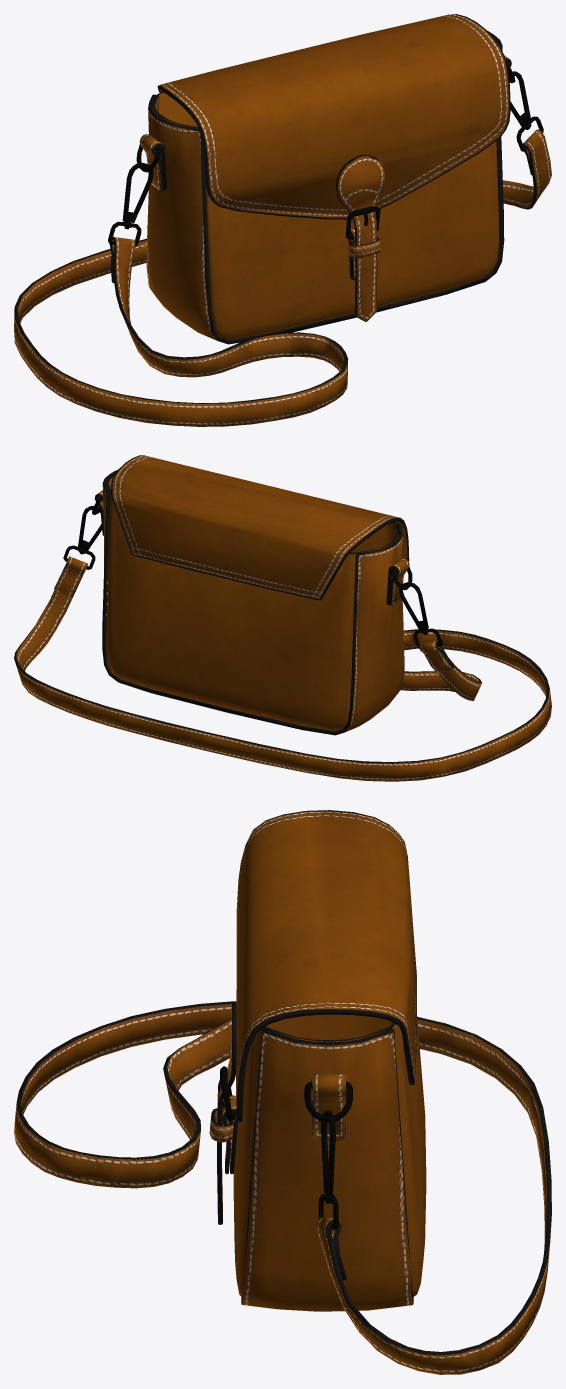
The model's file is hvbag_Woman_handbag_orange.glb.
3 views of the same model, one above another, from view 1: azimuth 30°, elevation 25°; view 2: azimuth 150°, elevation 25°; view 3: azimuth 270°, elevation 25° (orthographic). The views are drawn at different scales.
Visible parts, largest first — view 1: Woman_handbag_orange_leather_StaticMeshComponent0; view 2: Woman_handbag_orange_leather_StaticMeshComponent0; view 3: Woman_handbag_orange_leather_StaticMeshComponent0.
Boxes of the visible parts, <box> form: Woman_handbag_orange_leather_StaticMeshComponent0: <box>14,14,551,426</box>; Woman_handbag_orange_leather_StaticMeshComponent0: <box>14,455,551,781</box>; Woman_handbag_orange_leather_StaticMeshComponent0: <box>14,810,551,1374</box>.
Bounding box in the file's own units: 0.4596 × 0.1924 × 0.292.
Materials: 3 (1 with a texture image).
